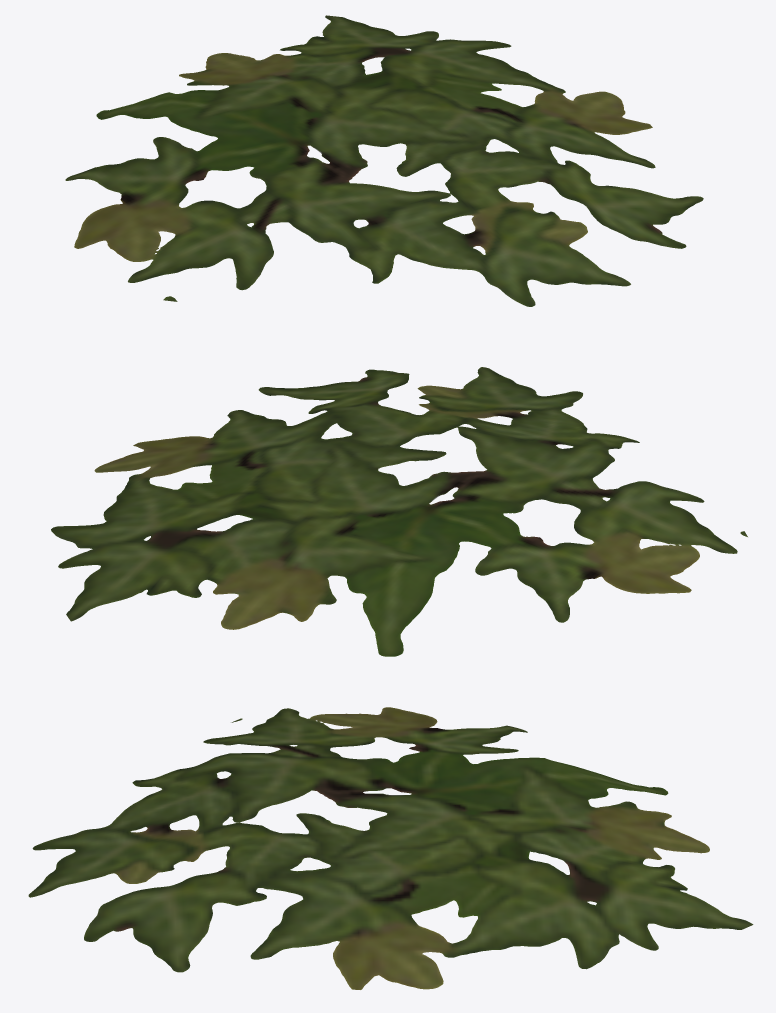
The model's file is fanasty_mod_sprig_ivy01.fbx.
3 renders of one model, top to bottom at view 1: azimuth 30°, elevation 25°; view 2: azimuth 150°, elevation 25°; view 3: azimuth 270°, elevation 25°, orthographic. The views are drawn at different scales.
Parts seen in each view (by area): view 1: sprig_ivy_01; view 2: sprig_ivy_01; view 3: sprig_ivy_01.
Boxes of the visible parts, x1,y1,x2,y2 form: sprig_ivy_01: (65, 15, 703, 306); sprig_ivy_01: (51, 367, 747, 656); sprig_ivy_01: (28, 707, 753, 989).
Bounding box in the file's own units: 1.87 × 0.1131 × 2.
